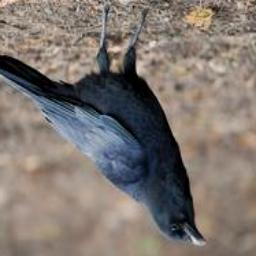Crow: (0, 0, 211, 247)
